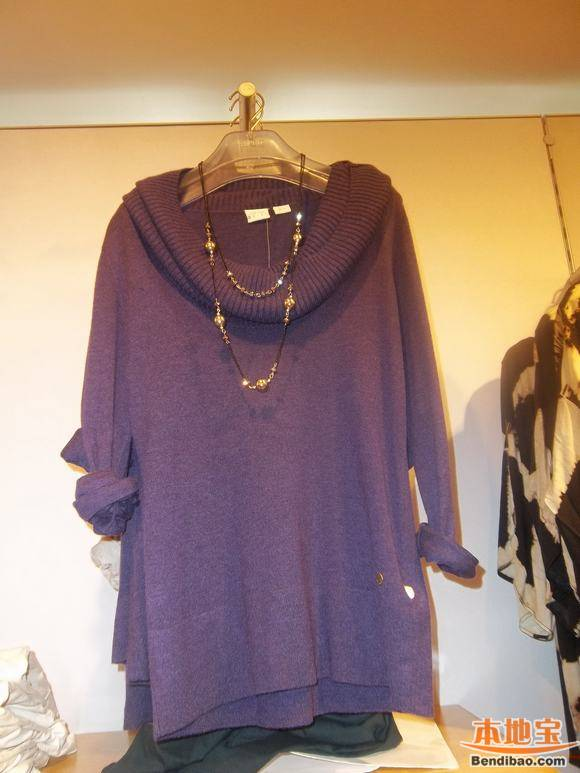flexible: (60, 150, 486, 730)
